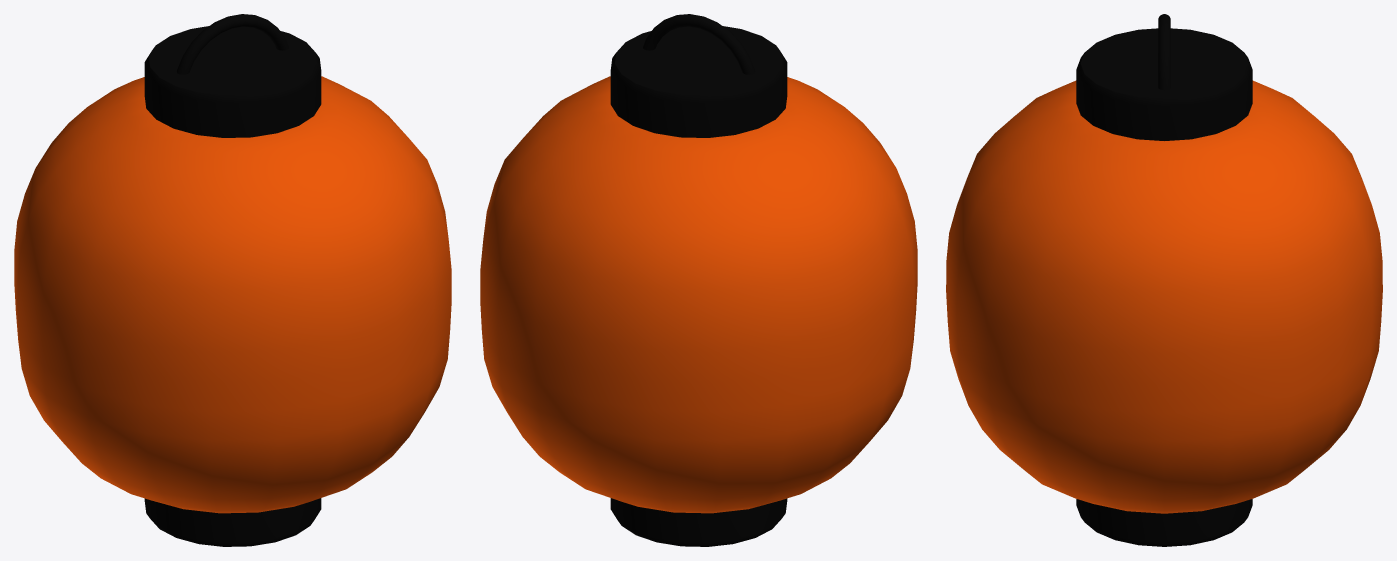
Rendered from Lantern.fbx.
The picture shows the model from 3 angles, left to right: view 1: azimuth 30°, elevation 25°; view 2: azimuth 150°, elevation 25°; view 3: azimuth 270°, elevation 25°; orthographic projection.
Parts seen in each view (by area): view 1: pCylinder3; view 2: pCylinder3; view 3: pCylinder3.
Part boxes in pixels (bbox=[...]): pCylinder3: bbox=[14, 14, 451, 546]; pCylinder3: bbox=[480, 14, 917, 546]; pCylinder3: bbox=[946, 14, 1382, 546].
Bounding box in the file's own units: 11.76 × 14.61 × 11.76.
